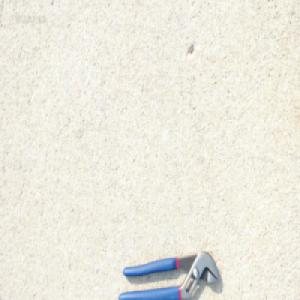Pliers: (119, 250, 219, 296)
